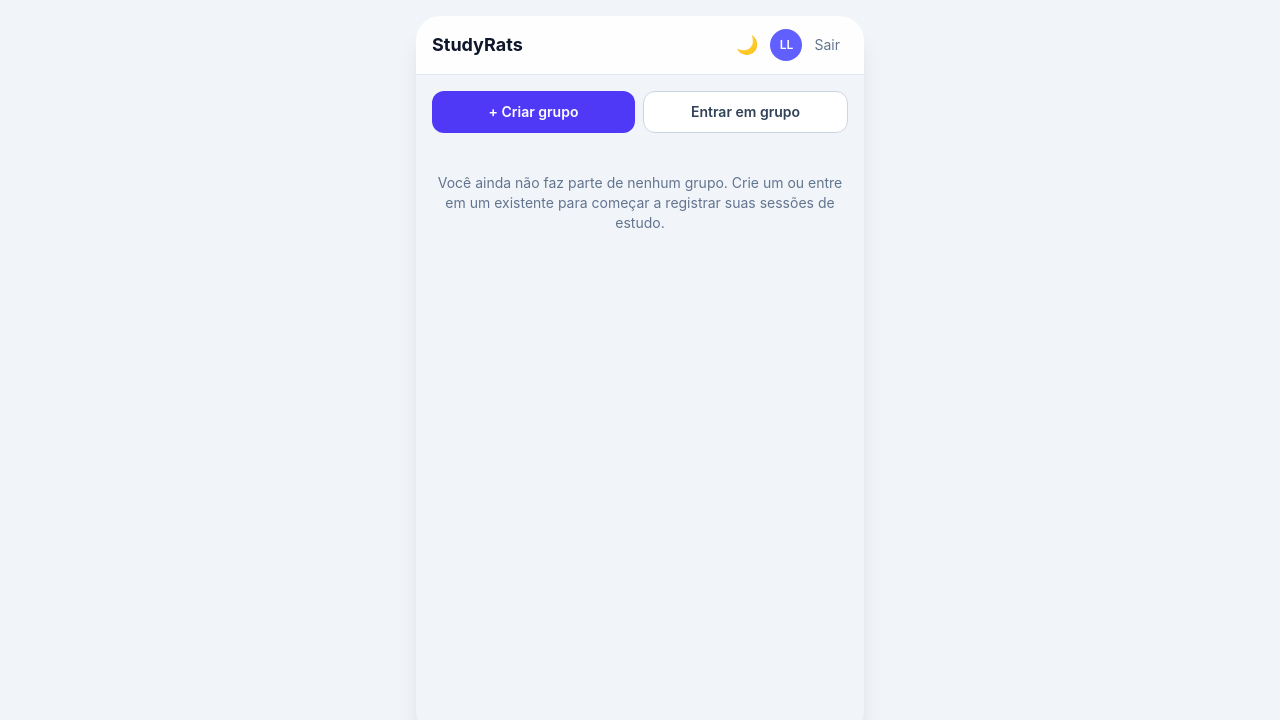
Test: fluxo completo: criar grupo, publicar sessão e ver no feed › permite criar um grupo, publicar uma sessão nele e vê-la no feed do grupo
# Cria um novo grupo a partir da Home.
Click the button "+ Criar grupo": [534, 112] box [432,91,635,133]
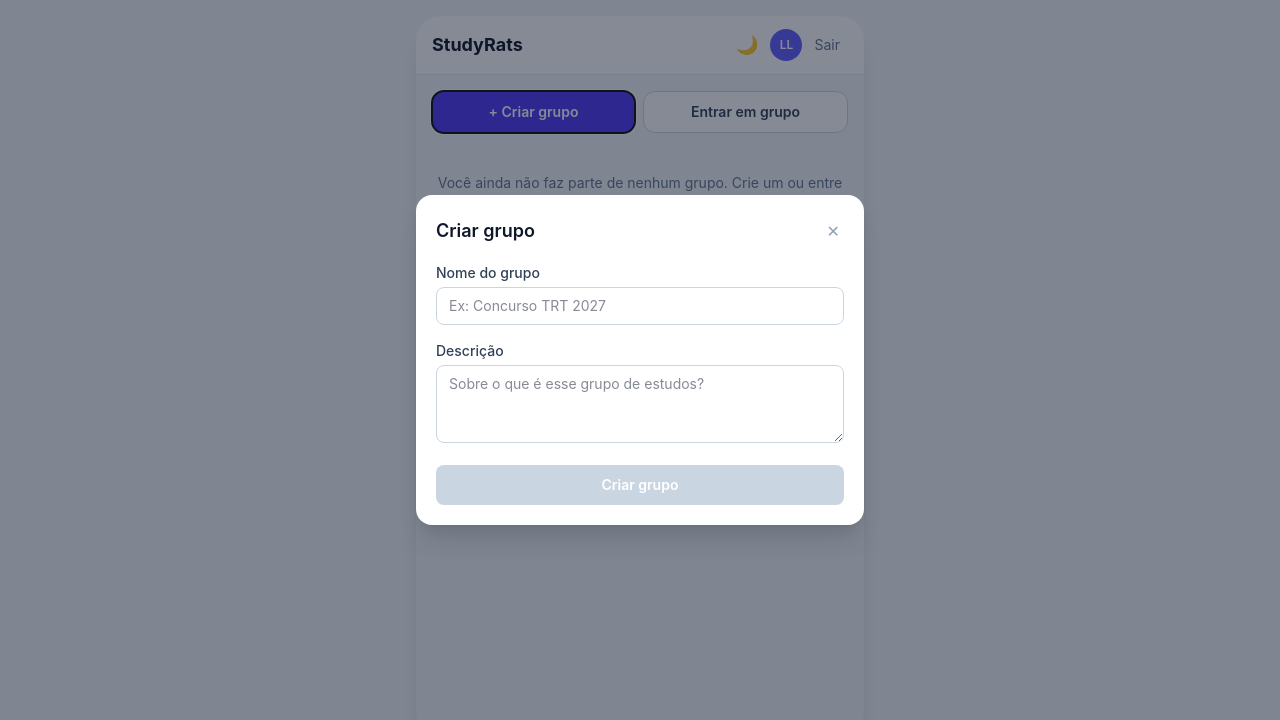
In the field labelled "Nome do grupo": [640, 306] box [436,287,844,325], type "Grupo de Teste"
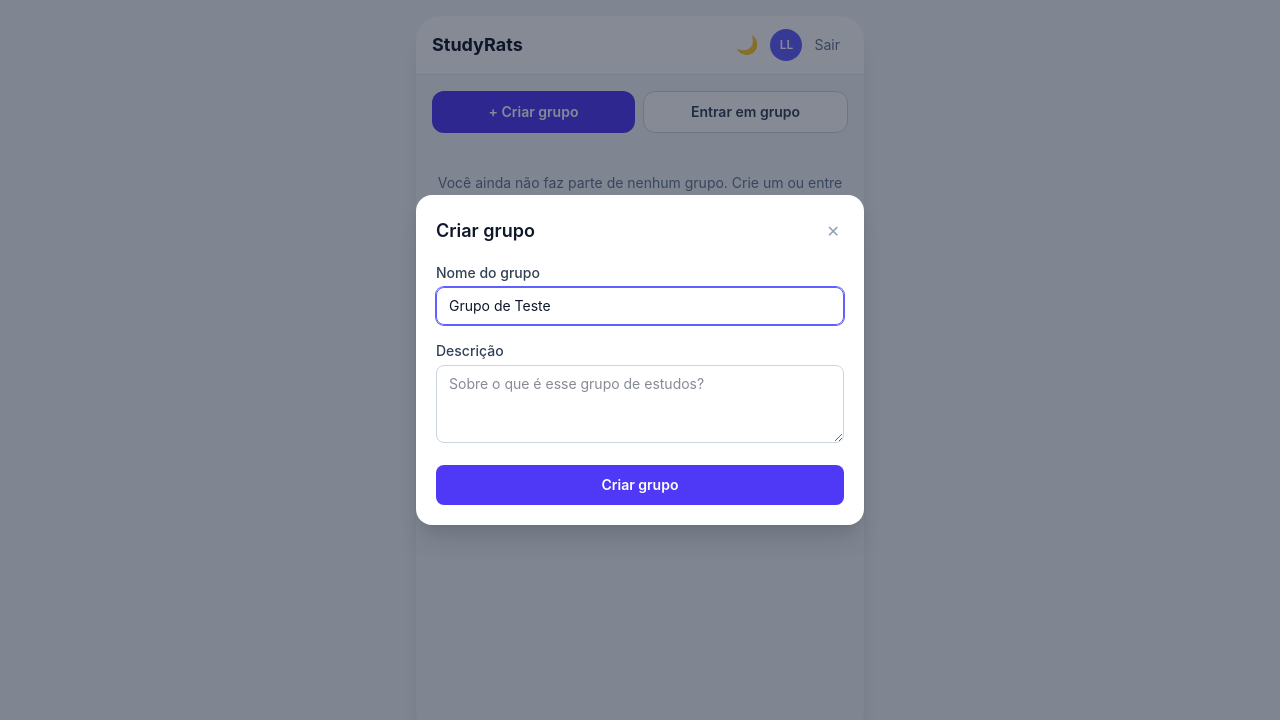
Click the button "Criar grupo": [640, 485] box [436,465,844,505]
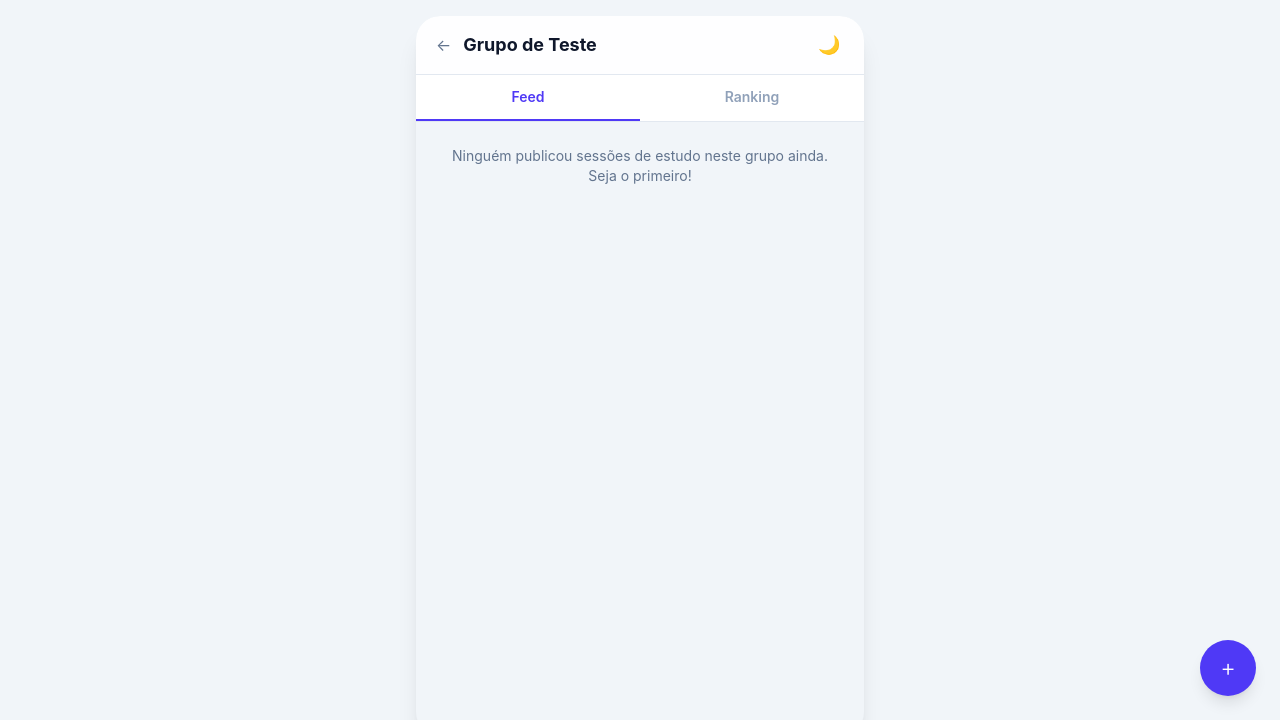
Expected: the heading "Grupo de Teste" is shown, [463,34,597,55]
# Publica uma sessão de estudo já com o grupo atual pré-selecionado.
Click the button named "Publicar sessão de estudo": [1228, 668] box [1200,640,1256,696]
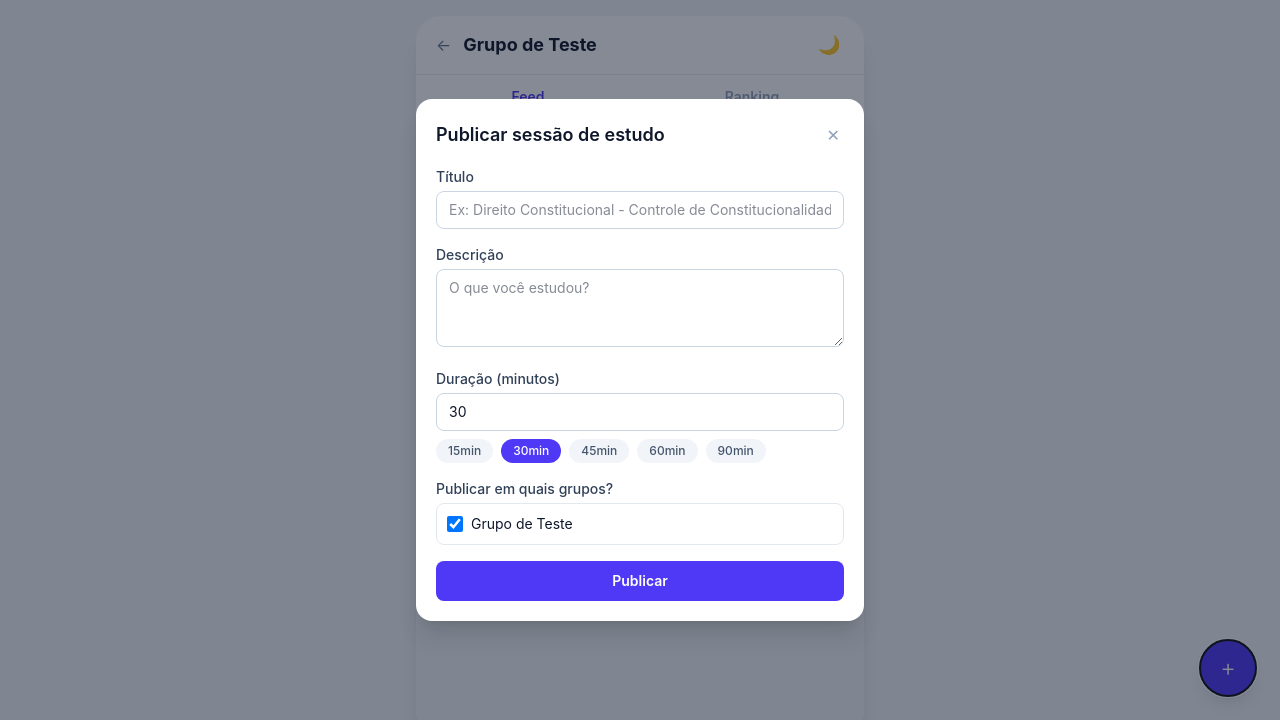
In the field labelled "Título": [640, 210] box [436,191,844,229], type "Minha sessão de teste"
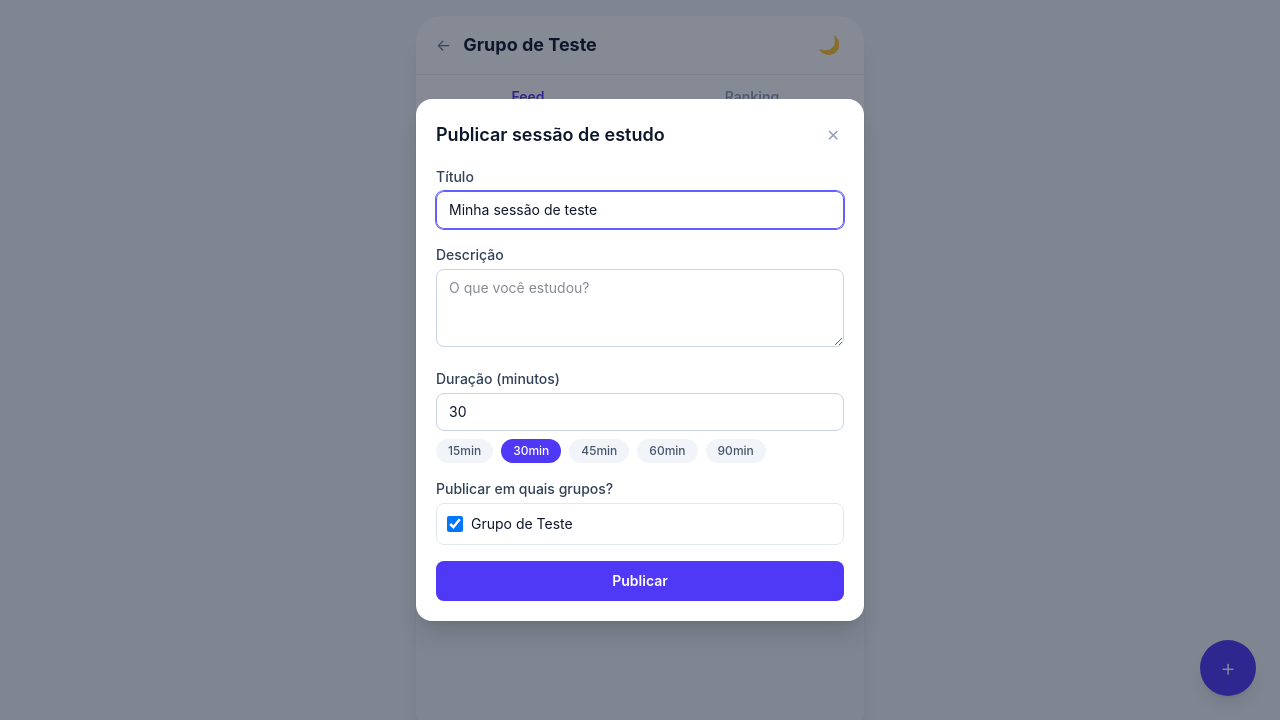
Expected: the checkbox labelled "Grupo de Teste" is checked, [447,516,463,532]
Click the button "Publicar": [640, 581] box [436,561,844,601]
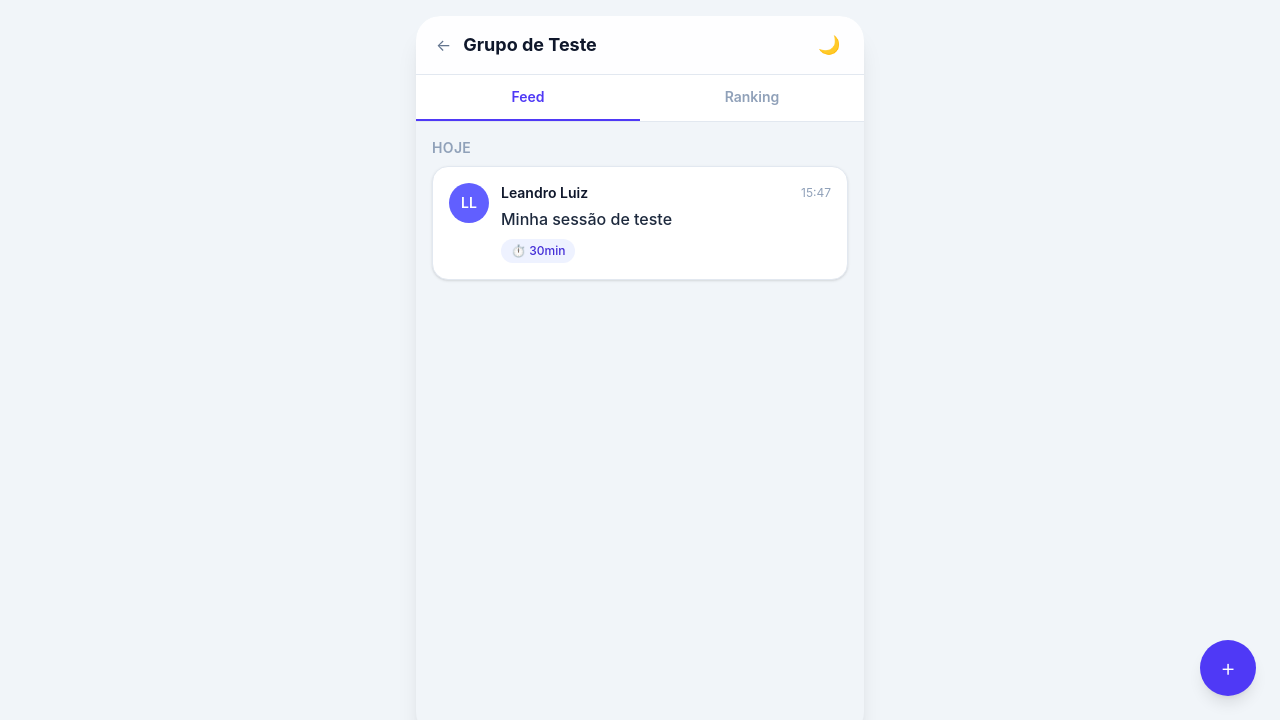
Expected: the text "Minha sessão de teste" is shown, [501,209,672,229]
Expected: the heading "Hoje" is shown, [432,139,471,156]
